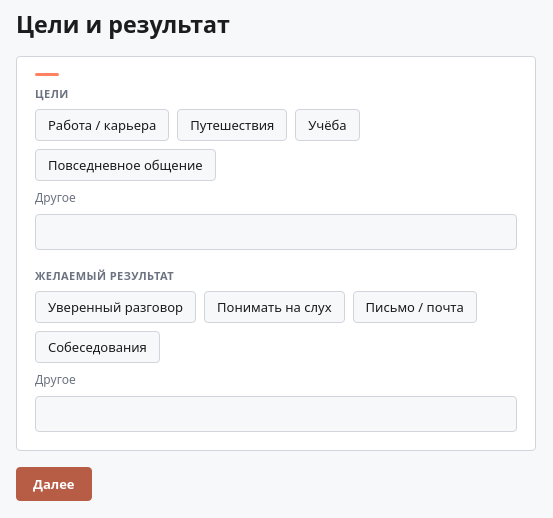
OnboardingWizard › goals step PATCHes selected chips and advances
This screenshot has width=553, height=518.
Click the button with class "chip" showing "Учёба" at (327, 125), box [295,109,360,141]
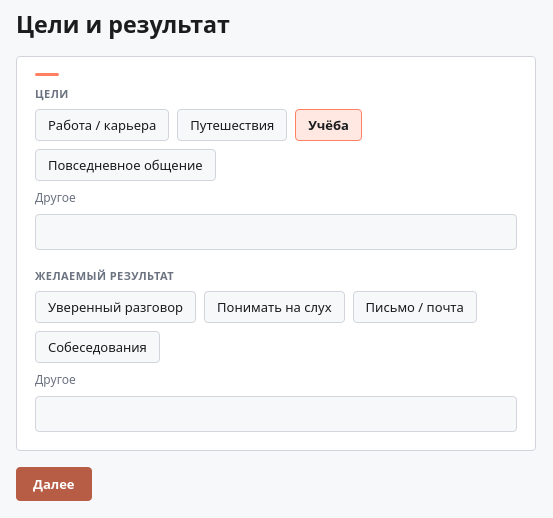
Click the button with class "chip" showing "Уверенный разговор" at (116, 307), box [35,291,196,323]
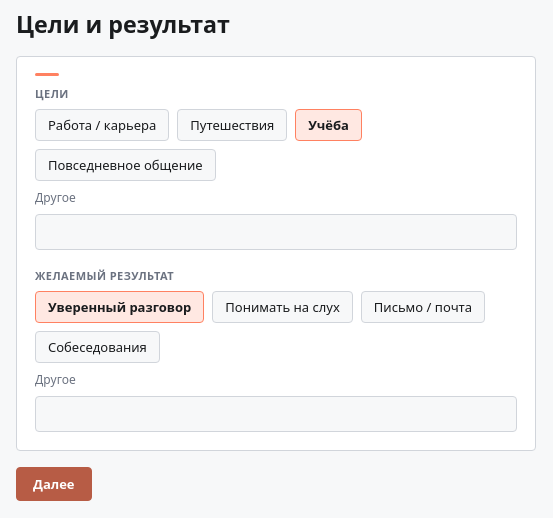
Click the button with test id "next-button" at (54, 484), box [16,467,92,501]
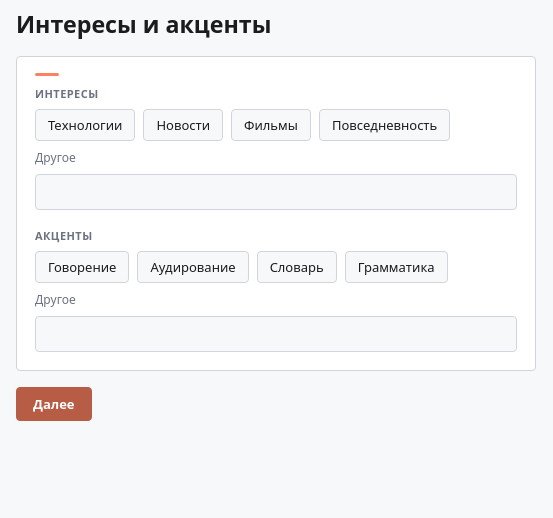
Expected: the element with test id "step-interests" is shown, [16,56,536,371]
